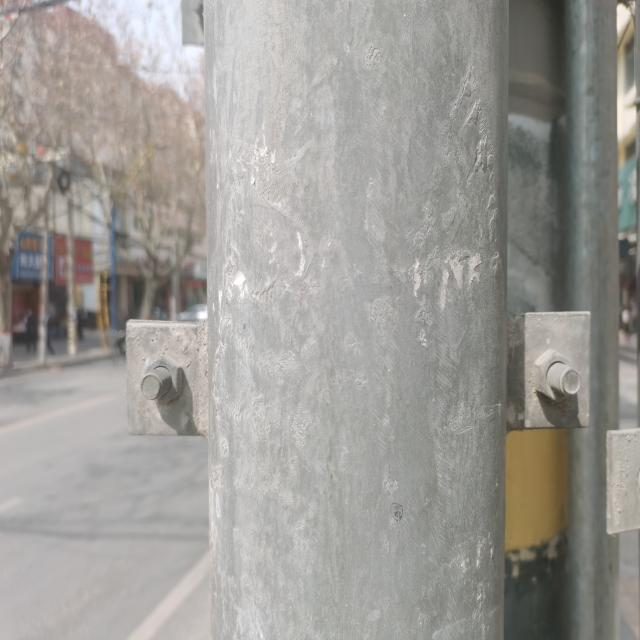bolt nut: (532, 347, 575, 405), (143, 351, 184, 406)
